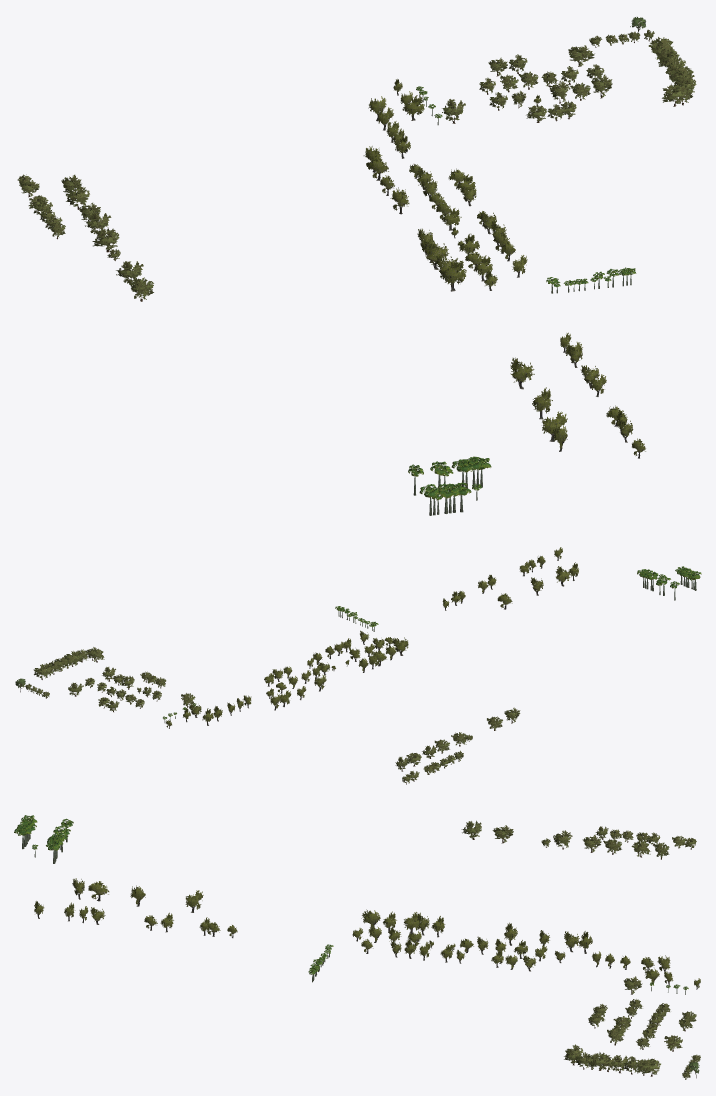
The picture shows the model from 3 angles, top to bottom: view 1: azimuth 30°, elevation 25°; view 2: azimuth 150°, elevation 25°; view 3: azimuth 270°, elevation 25°; orthographic projection. The views are drawn at different scales.
Visible parts, largest first — view 1: jacaranda_tree street foliage, island_tree_01 street foliage, Census palm fronds and trunk, island_tree_01 park bark; view 2: jacaranda_tree street foliage, island_tree_01 street foliage, Census palm fronds and trunk, island_tree_01 park bark; view 3: island_tree_01 street foliage, jacaranda_tree street foliage, Census palm fronds and trunk, island_tree_01 park bark.
Boxes of the visible parts, x1,y1,x2,y2 form: jacaranda_tree street foliage: (17,29,696,299); island_tree_01 street foliage: (363,79,645,455); Census palm fronds and trunk: (408,86,636,515); island_tree_01 park bark: (368,87,643,458); jacaranda_tree street foliage: (19,647,520,783); island_tree_01 street foliage: (137,547,578,727); Census palm fronds and trunk: (163,566,701,722); island_tree_01 park bark: (139,554,574,728); island_tree_01 street foliage: (34,878,700,1019); jacaranda_tree street foliage: (461,820,700,1079); Census palm fronds and trunk: (14,815,688,994); island_tree_01 park bark: (35,886,699,1021).
Bounding box in the file's own units: 348 × 14.82 × 406.
Materials: 7 (7 with a texture image).
